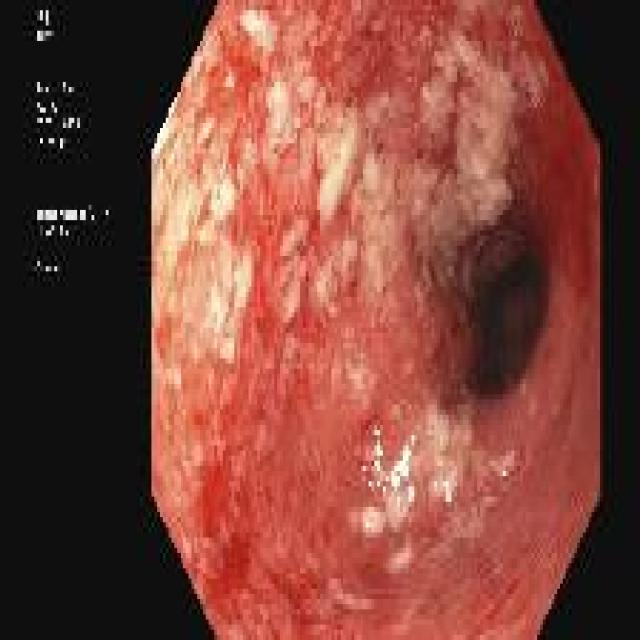ulcerative-colitis: (151, 2, 600, 638)
